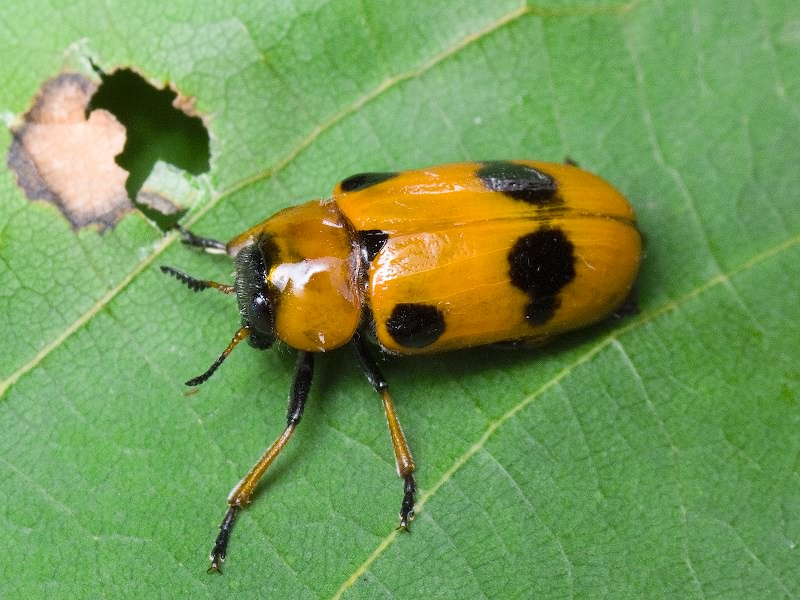Tituboea_macropus: (136, 144, 653, 582)
